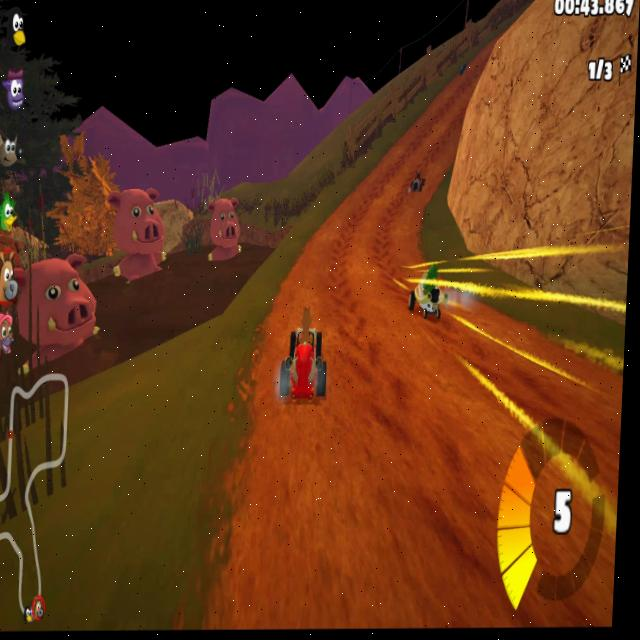enemy_kart: (407, 260, 444, 322), (407, 173, 428, 193)
player_kart: (279, 302, 331, 400)
track: (238, 446, 620, 632), (325, 361, 623, 452), (330, 319, 578, 365), (296, 254, 408, 294), (335, 199, 422, 250), (253, 401, 329, 454), (335, 292, 410, 321), (408, 119, 457, 160), (265, 306, 280, 408), (358, 175, 406, 202), (436, 88, 469, 116), (313, 218, 337, 255), (456, 51, 491, 75), (378, 155, 403, 179), (390, 140, 407, 163), (281, 274, 298, 292), (426, 101, 436, 117)
